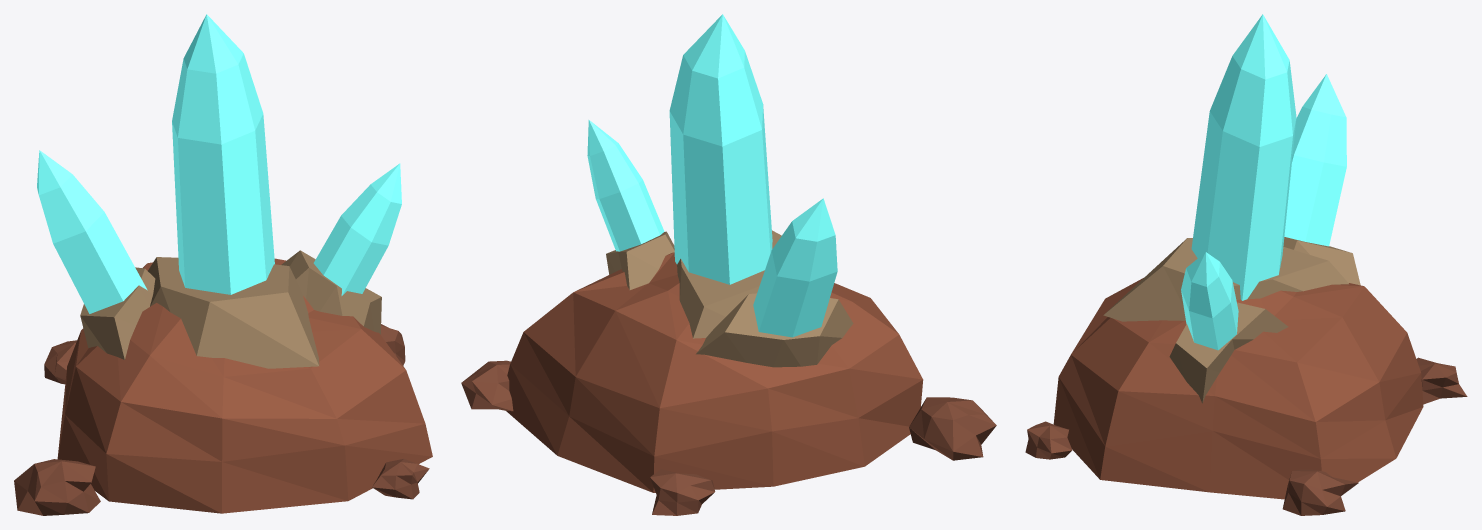
Rendered from crystal-cluster-624138.glb.
The picture shows the model from 3 angles, left to right: view 1: azimuth 30°, elevation 25°; view 2: azimuth 150°, elevation 25°; view 3: azimuth 270°, elevation 25°; orthographic projection. The views are drawn at different scales.
Parts seen in each view (by area): view 1: rock, crystals; view 2: rock, crystals; view 3: rock, crystals.
Part boxes in pixels (x1,y1,x2,y2): rock: [14, 250, 432, 515]; crystals: [37, 14, 401, 313]; rock: [461, 230, 996, 515]; crystals: [587, 14, 837, 337]; rock: [1025, 237, 1467, 515]; crystals: [1181, 14, 1346, 350].
Size of the model in its own units: 0.9176 by 0.8025 by 0.805.
